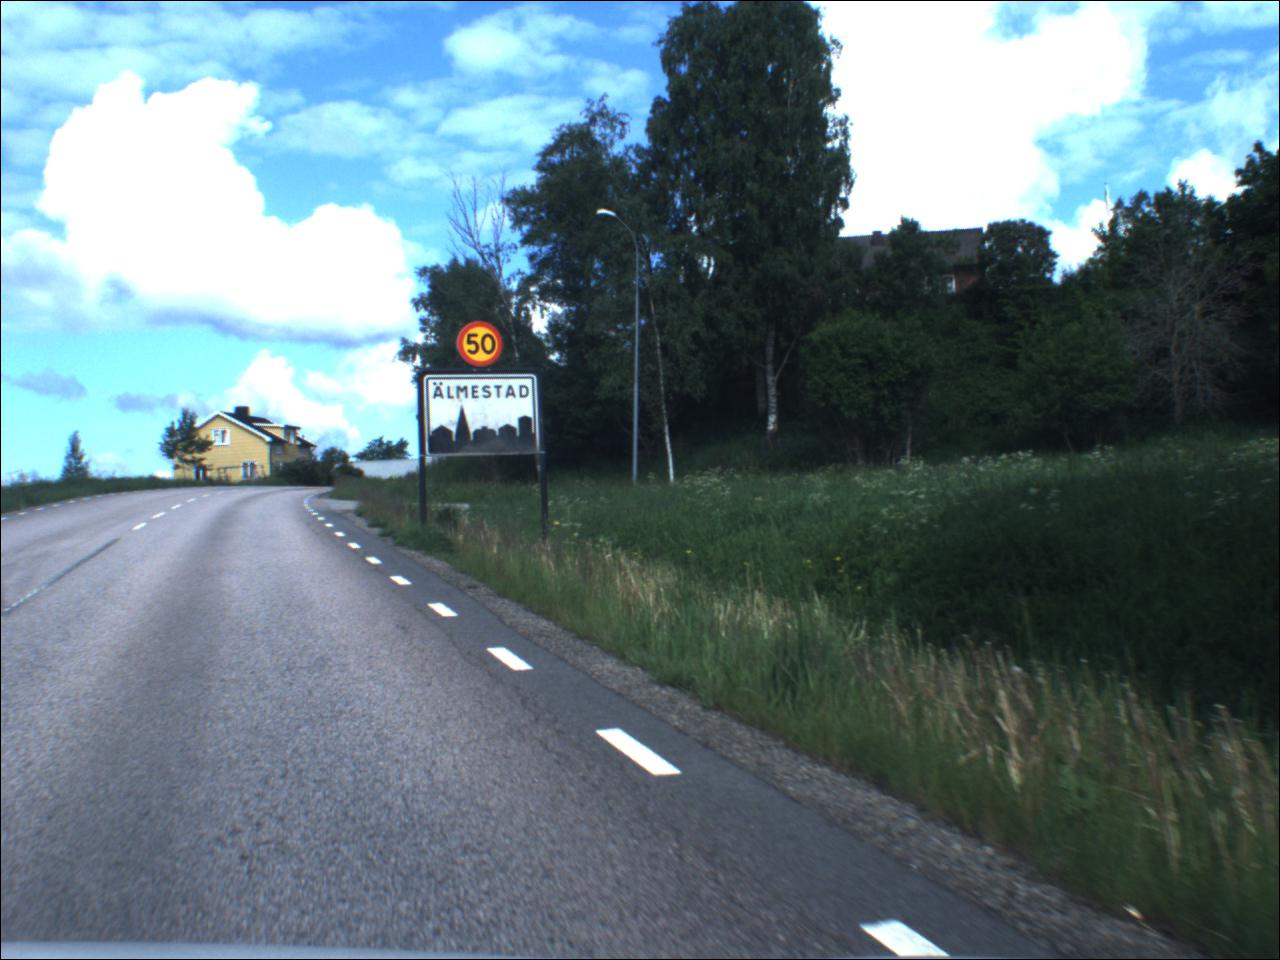50_SIGN: (458, 322, 508, 370)
